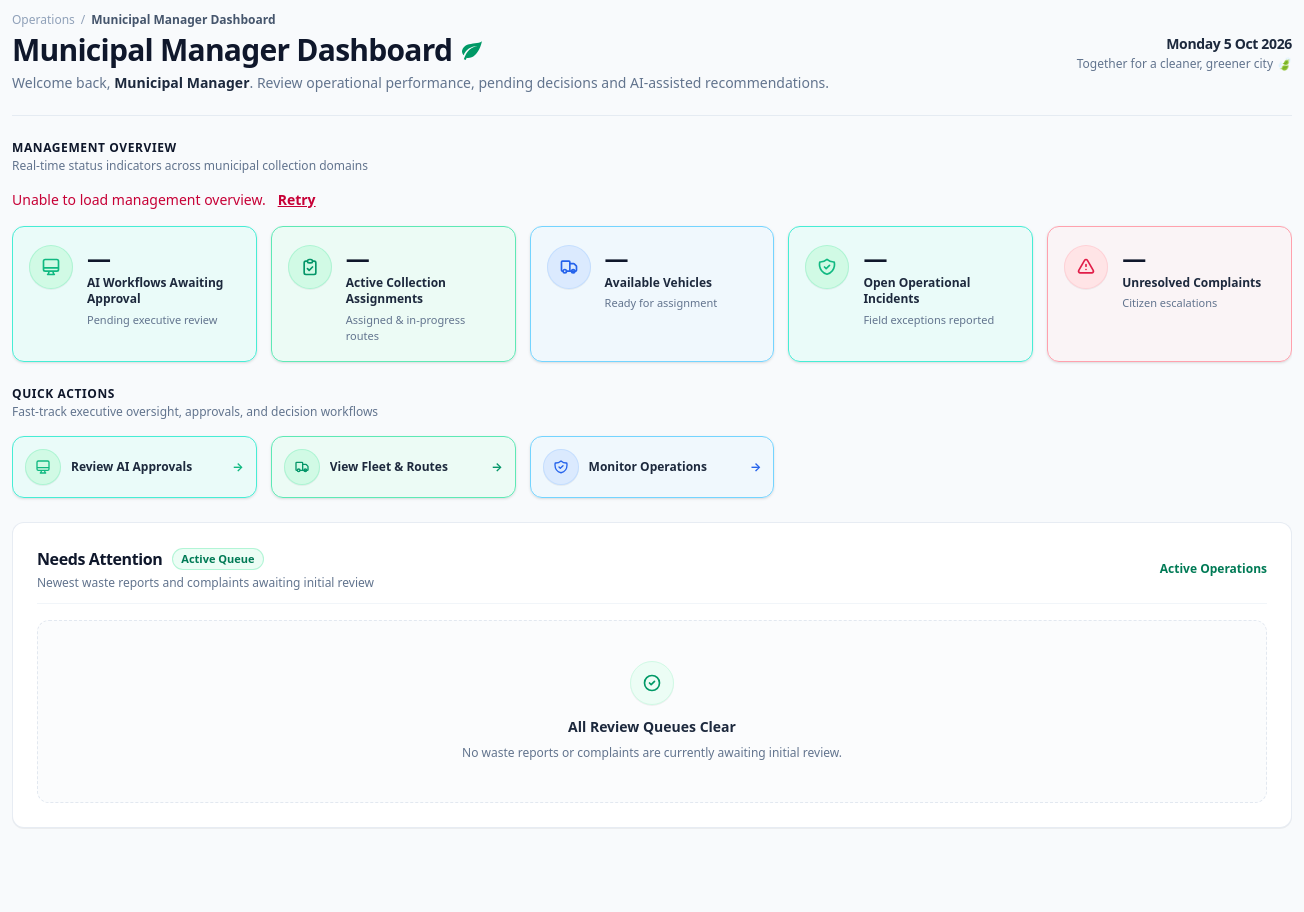
Test: Municipal Manager management overview › keeps actions usable and retries an error without fabricated counts
Check: the message shows "Unable to load management overview.", box [12,190,266,209]
Check: the 1st text "—" is shown, box [87,241,110,274]
What coordinates should you click on to do the following:
click the button "Retry"
I would click on:
 (297, 200)
Its box is [278,190,316,210].
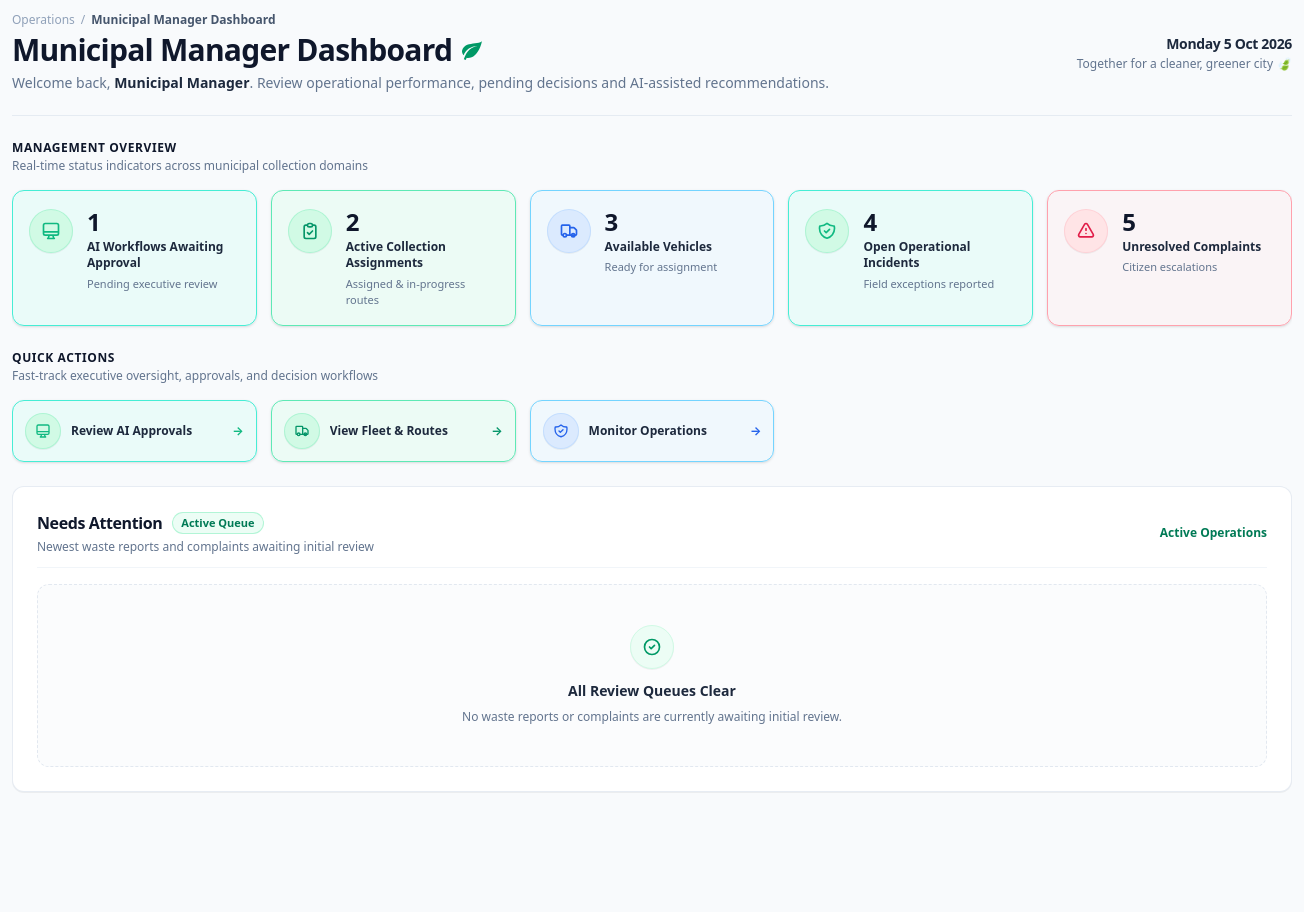
Check: the text "1" is shown, box [87,205,100,238]
